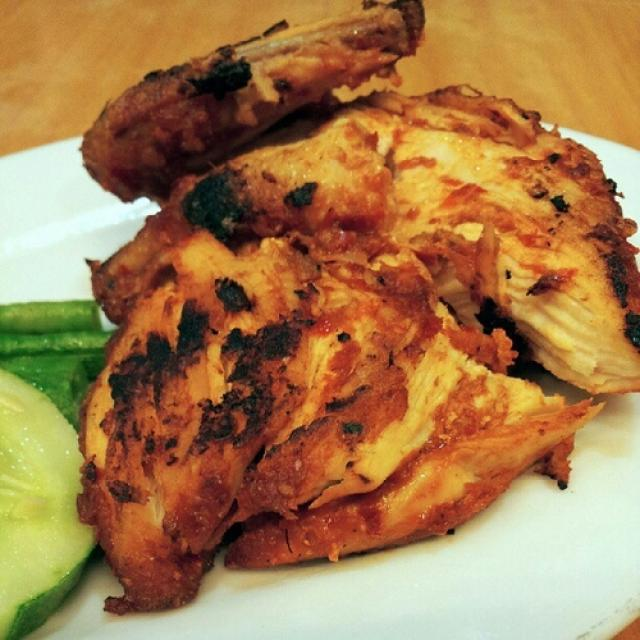鸡肉料理 含炸鸡: (23, 18, 634, 602)
